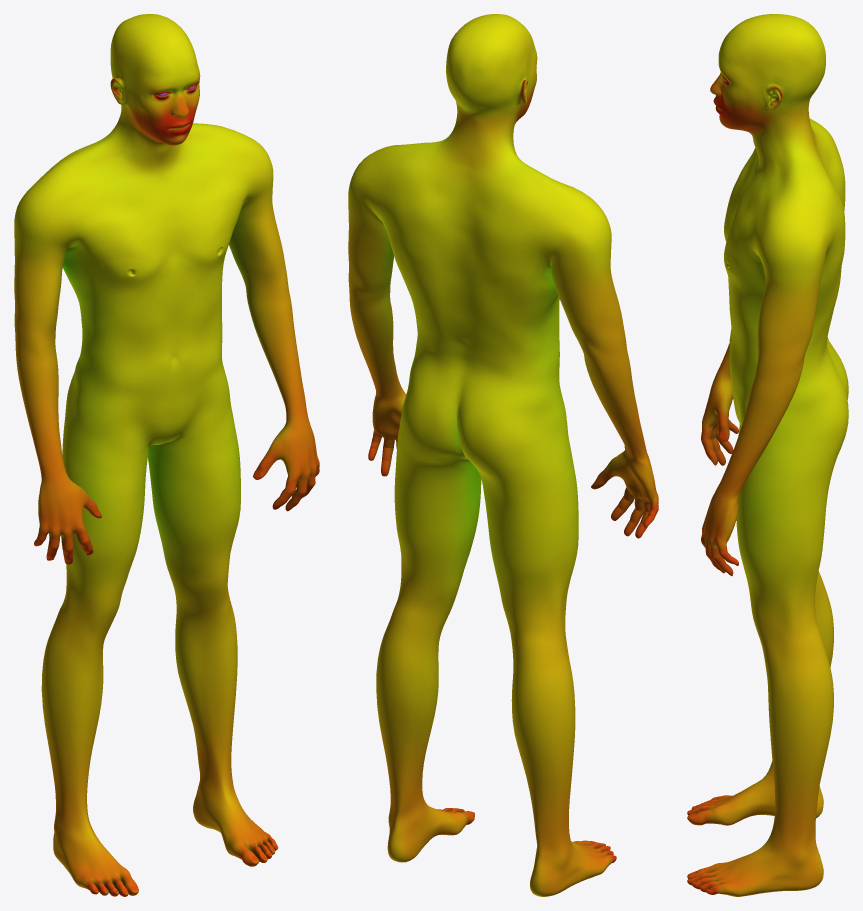
The model's file is male.glb.
3 views of the same model, side by side, from view 1: azimuth 30°, elevation 25°; view 2: azimuth 150°, elevation 25°; view 3: azimuth 270°, elevation 25° (orthographic).
Parts seen in each view (by area): view 1: body; view 2: body; view 3: body.
Part boxes in pixels (x1,y1,x2,y2): body: (14,14,319,896); body: (348,14,658,896); body: (687,14,848,896).
Size of the model in its own units: 0.3778 by 1.07 by 0.1874.
